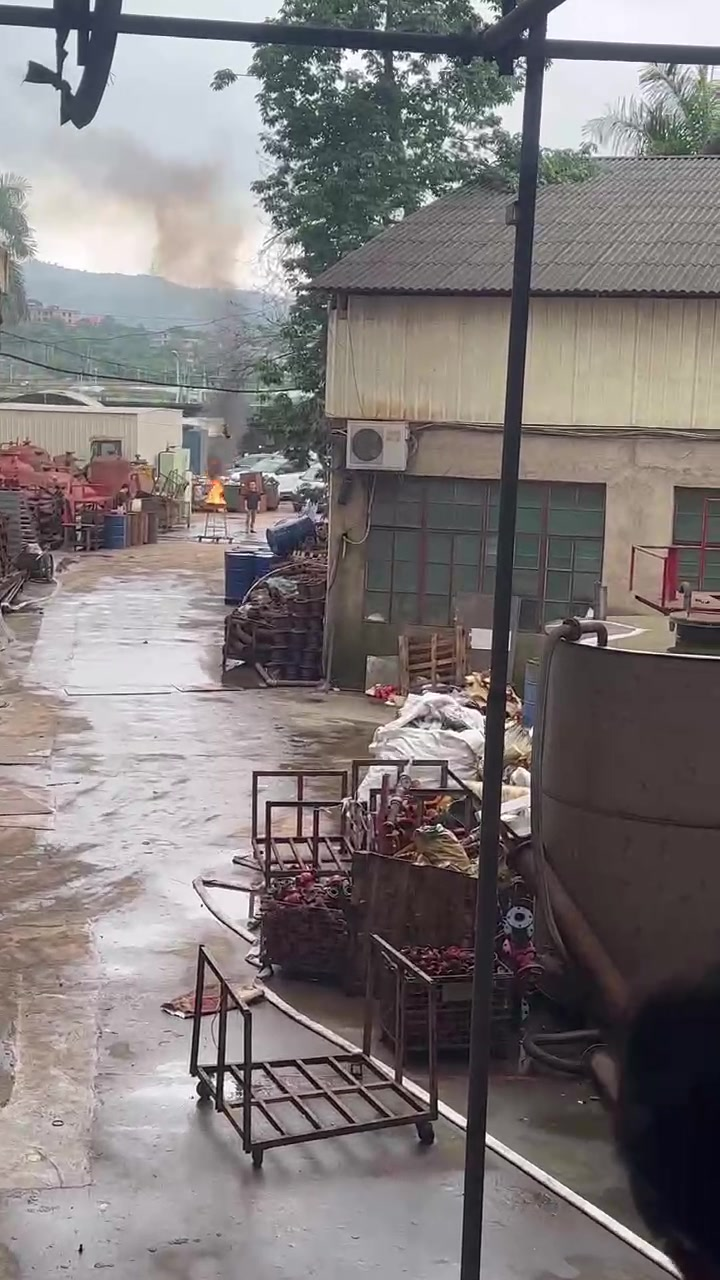fire: (203, 479, 226, 503)
